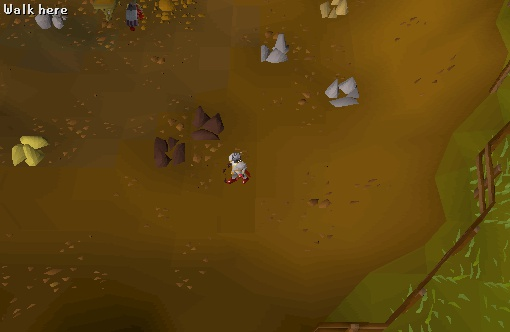gold: (5, 127, 56, 174)
iron: (186, 101, 235, 144), (144, 128, 193, 171)
tin: (318, 72, 369, 114), (247, 29, 298, 71)
